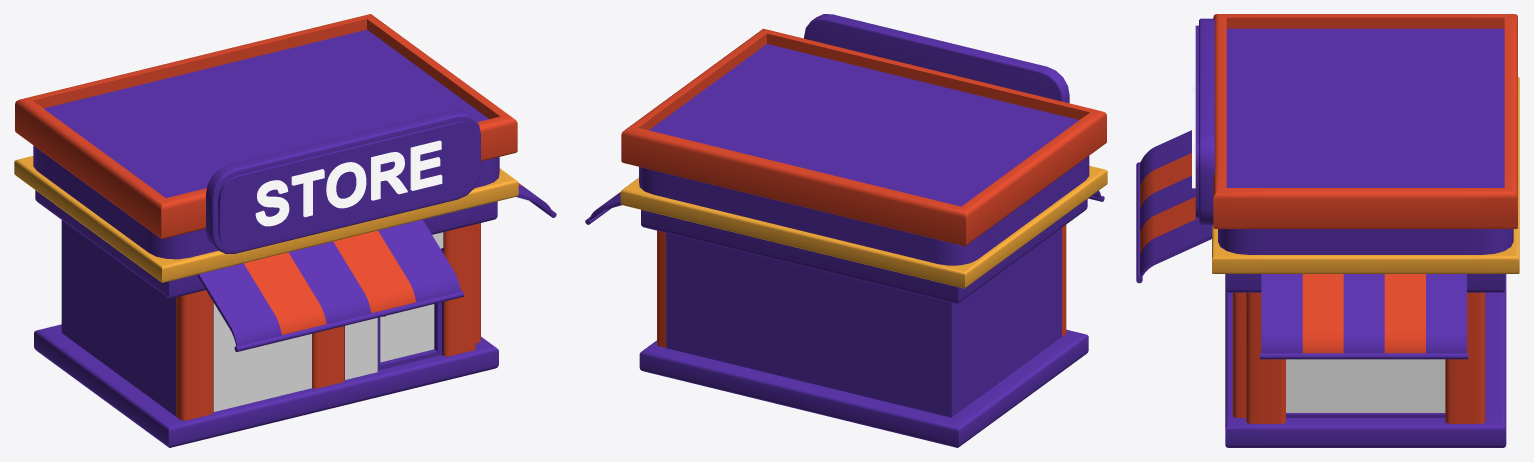
The model's file is store.glb.
3 renders of one model, left to right at view 1: azimuth 30°, elevation 25°; view 2: azimuth 150°, elevation 25°; view 3: azimuth 270°, elevation 25°, orthographic. The views are drawn at different scales.
Parts seen in each view (by area): view 1: Body, Text; view 2: Body; view 3: Body, Text.
Boxes of the visible parts, bbox=[...] form: Body: bbox=[14, 14, 556, 447]; Text: bbox=[255, 140, 442, 218]; Body: bbox=[585, 14, 1107, 447]; Body: bbox=[1136, 14, 1519, 447]; Text: bbox=[1192, 55, 1195, 187].
Bounding box in the file's own units: 2.66 × 1.69 × 2.03.
